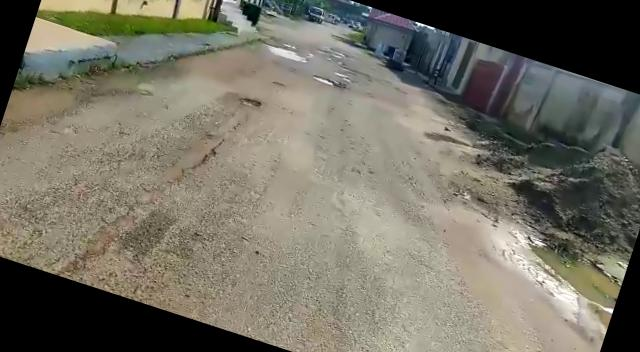pothole: (263, 42, 310, 66), (310, 72, 344, 90), (236, 94, 264, 112)
